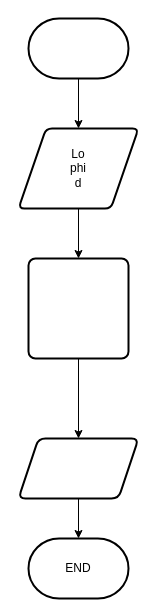
The diagram is 156 pixels wide and 616 high, and some of its shapes have lost their labels. The shapes that lost their labels are listed below. From the top down, each one's centre as x and y in pixels, then its label:
At (78,308): "Lo= phi * d".
At (78,468): "Lo".
